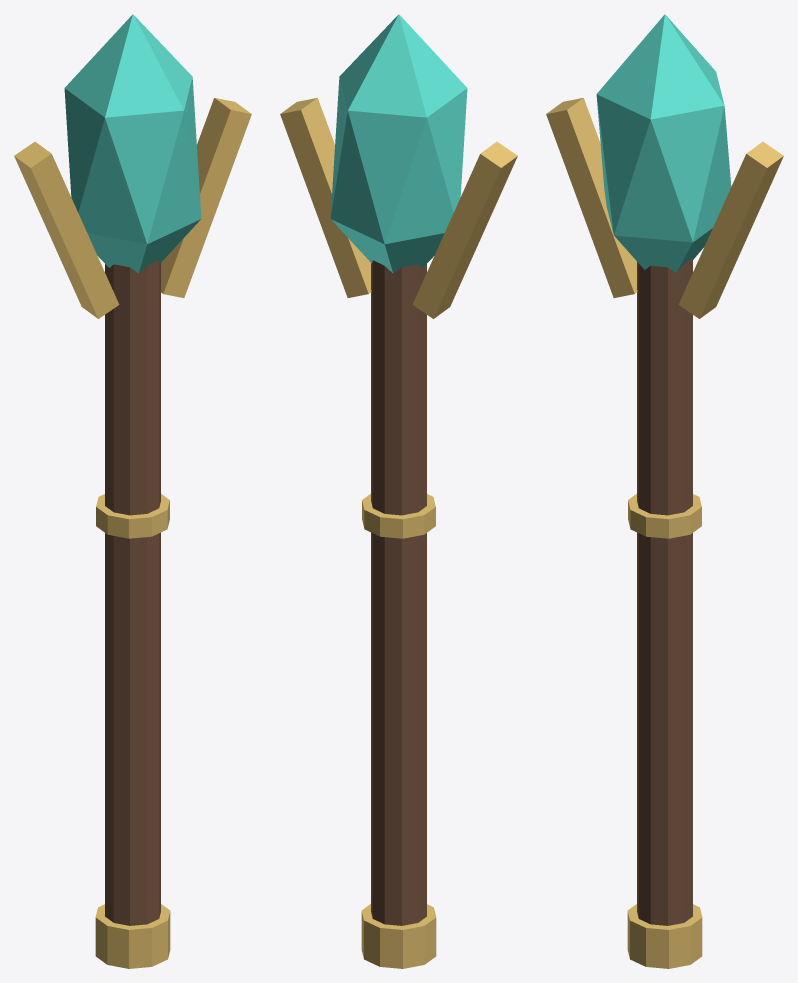
File: staff-1.glb
3 views of the same model, side by side, from view 1: azimuth 30°, elevation 25°; view 2: azimuth 150°, elevation 25°; view 3: azimuth 330°, elevation 25° (orthographic).
Visible parts, largest first — view 1: Twisted walnut grip, Faceted moon crystal, Antler crystal cradle, Antler crystal cradle.001, Pommel, Rank gold inlay; view 2: Twisted walnut grip, Faceted moon crystal, Antler crystal cradle, Antler crystal cradle.001, Pommel, Rank gold inlay; view 3: Twisted walnut grip, Faceted moon crystal, Antler crystal cradle, Antler crystal cradle.001, Pommel, Rank gold inlay.
Boxes of the visible parts, left/top/right/bottom form: Twisted walnut grip: left=105, top=260, right=160, bottom=925; Faceted moon crystal: left=64, top=14, right=201, bottom=273; Antler crystal cradle: left=14, top=141, right=119, bottom=318; Antler crystal cradle.001: left=160, top=98, right=251, bottom=297; Pommel: left=95, top=904, right=170, bottom=968; Rank gold inlay: left=96, top=494, right=169, bottom=538; Twisted walnut grip: left=371, top=260, right=426, bottom=925; Faceted moon crystal: left=330, top=14, right=467, bottom=273; Antler crystal cradle: left=412, top=141, right=517, bottom=318; Antler crystal cradle.001: left=280, top=98, right=371, bottom=297; Pommel: left=361, top=904, right=436, bottom=968; Rank gold inlay: left=362, top=494, right=435, bottom=538; Twisted walnut grip: left=637, top=258, right=692, bottom=925; Faceted moon crystal: left=596, top=14, right=731, bottom=272; Antler crystal cradle: left=546, top=98, right=637, bottom=297; Antler crystal cradle.001: left=678, top=141, right=783, bottom=318; Pommel: left=627, top=904, right=702, bottom=968; Rank gold inlay: left=628, top=494, right=701, bottom=538.
Bounding box in the file's own units: 0.5342 × 2.17 × 0.2739.
